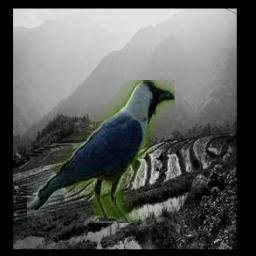Crow: (28, 80, 176, 223)
